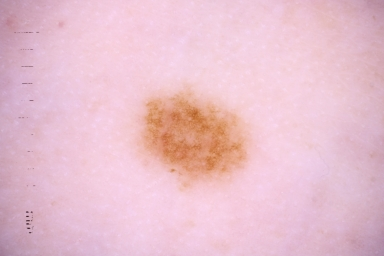melanoma: (141, 91, 246, 189)
